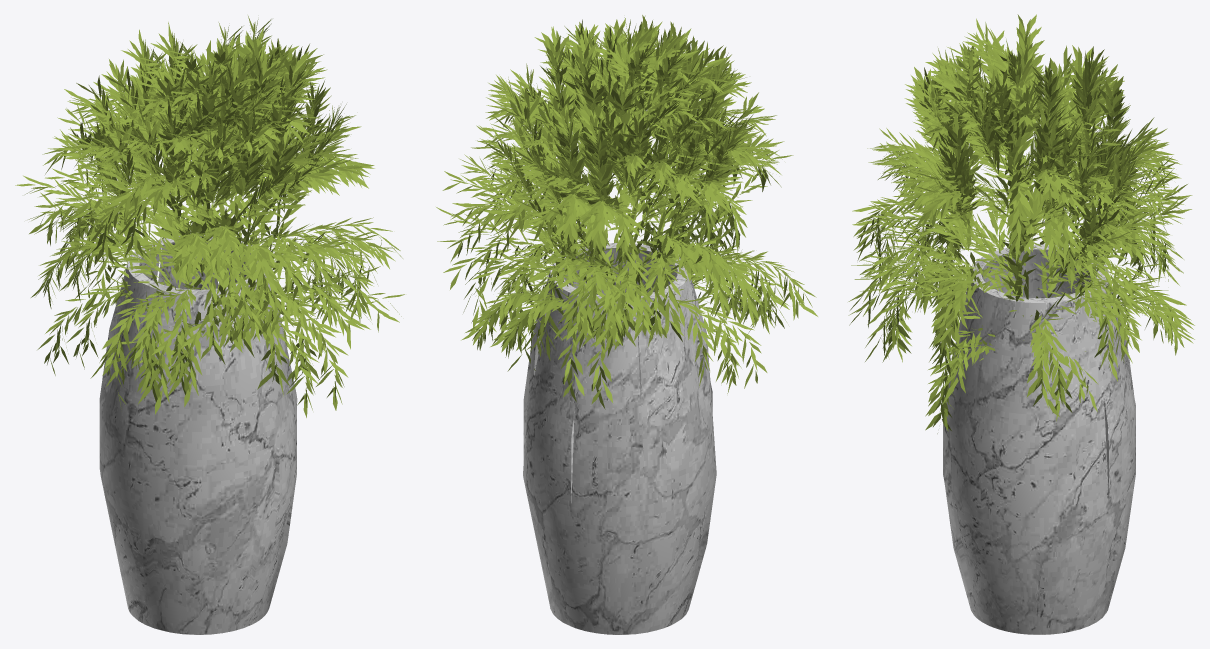
The model's file is petite-vase-plante.glb.
3 views of the same model, side by side, from view 1: azimuth 30°, elevation 25°; view 2: azimuth 150°, elevation 25°; view 3: azimuth 270°, elevation 25° (orthographic). The views are drawn at different scales.
Parts seen in each view (by area): view 1: leaves.001, Vase; view 2: leaves.001, Vase; view 3: leaves.001, Vase.
Part boxes in pixels (x1,y1,x2,y2): leaves.001: (15,16,404,417); Vase: (99,235,297,634); leaves.001: (436,15,817,409); Vase: (523,243,716,634); leaves.001: (848,14,1194,433); Vase: (943,244,1135,634).
Size of the model in its own units: 2.95 by 5.09 by 2.85.
Materials: 2 (1 with a texture image).
